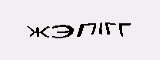І: (96, 21, 104, 38)
Г: (118, 21, 131, 38), (103, 21, 116, 37)
Ж: (26, 24, 50, 39)
П: (76, 21, 96, 39)
Э: (50, 23, 74, 39)
